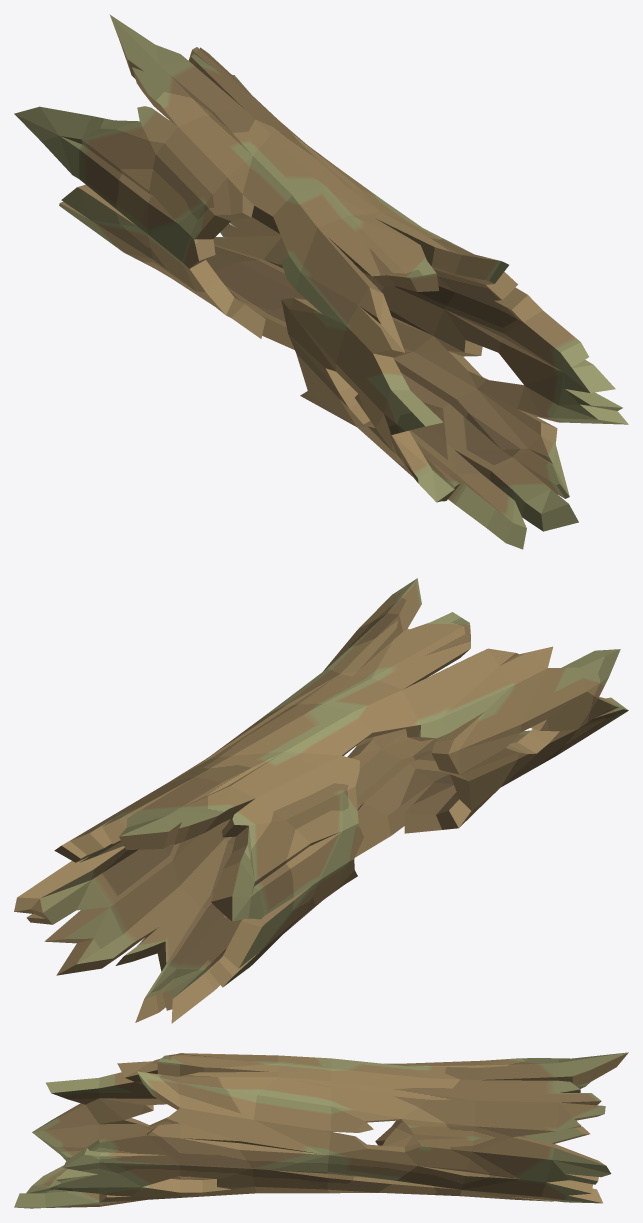
The model's file is SM_Prop_Swamp_Log_05.fbx.
3 renders of one model, top to bottom at view 1: azimuth 30°, elevation 25°; view 2: azimuth 150°, elevation 25°; view 3: azimuth 270°, elevation 25°, orthographic. The views are drawn at different scales.
Visible parts, largest first — view 1: SM_Prop_Swamp_Log_05; view 2: SM_Prop_Swamp_Log_05; view 3: SM_Prop_Swamp_Log_05.
Part boxes in pixels (x1,y1,x2,y2): SM_Prop_Swamp_Log_05: (14, 14, 628, 549); SM_Prop_Swamp_Log_05: (14, 578, 628, 1023); SM_Prop_Swamp_Log_05: (14, 1052, 628, 1208).
Bounding box in the file's own units: 434 × 412 × 1454.
1 material, 1 textured.
